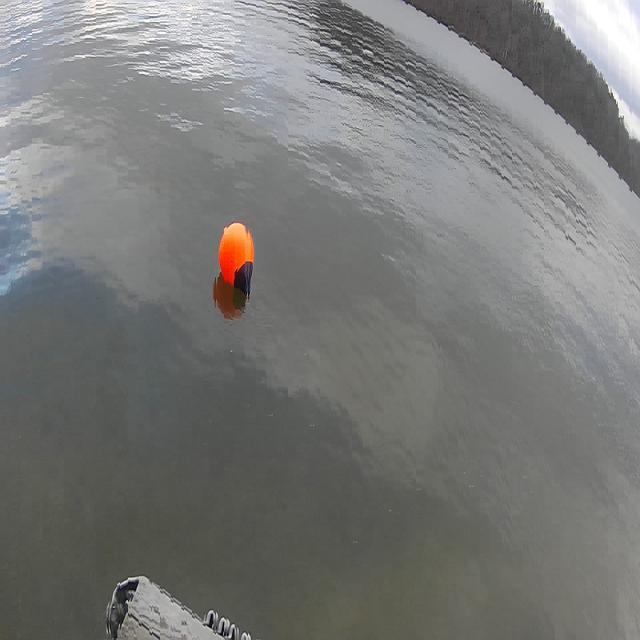Buoy: (213, 215, 260, 305)
